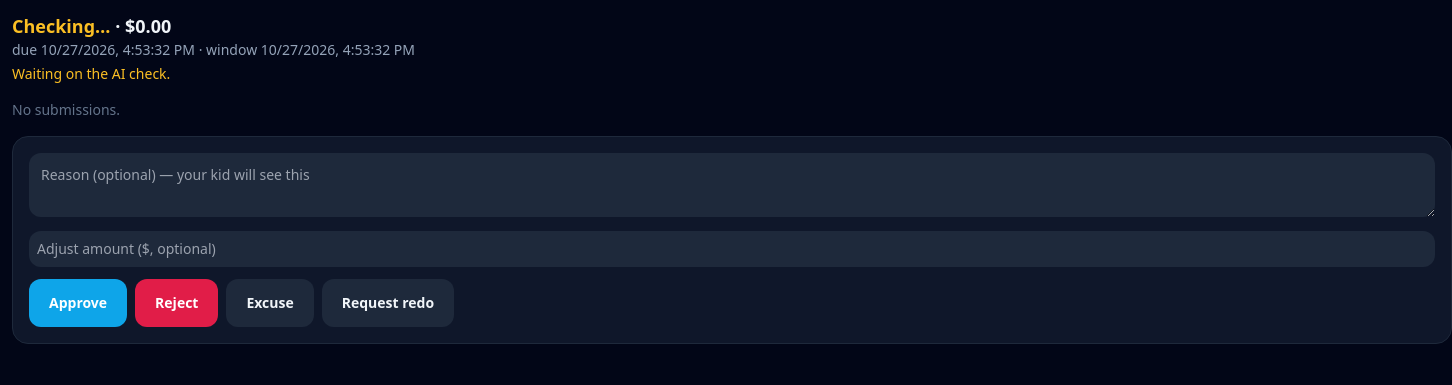
Test case: ReviewDetail — decisions › still wants a reason when the amount is changed
In the field with placeholder "Adjust amount ($, optional)": {"x": 732, "y": 249} [29,231,1435,267], type "2"
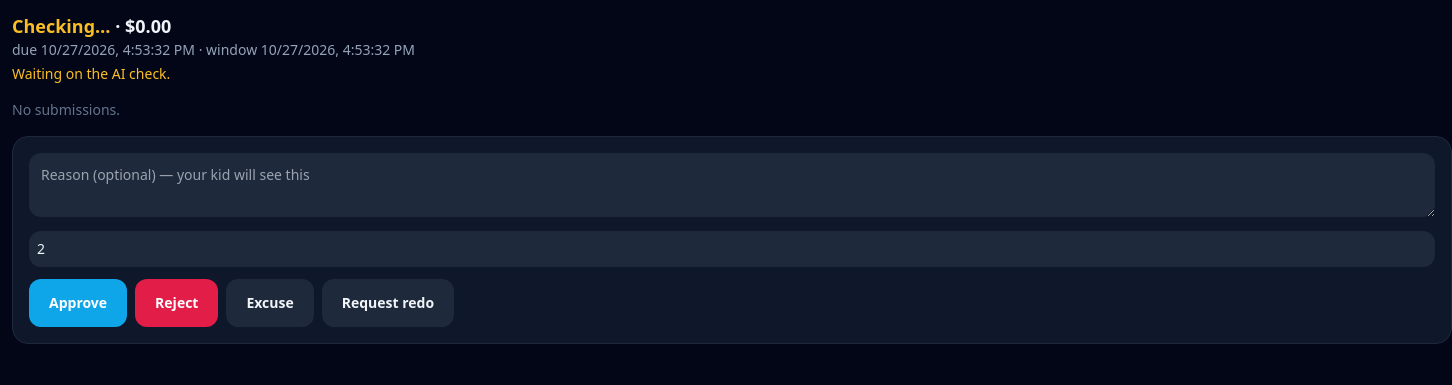
Click the button "Approve": {"x": 78, "y": 303} [29,279,127,327]
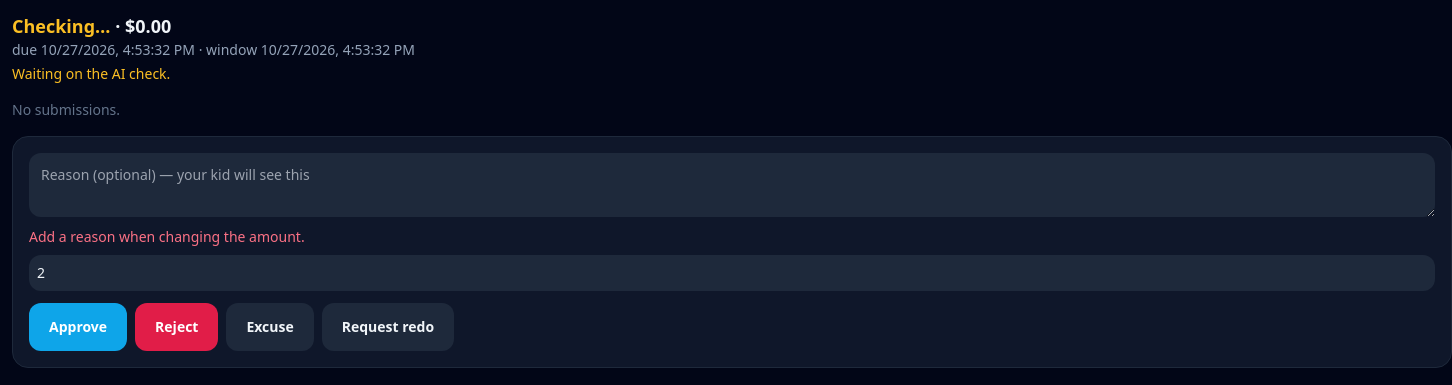
expect the text "Add a reason when changing the amount." is shown: met, box [29,227,305,246]
